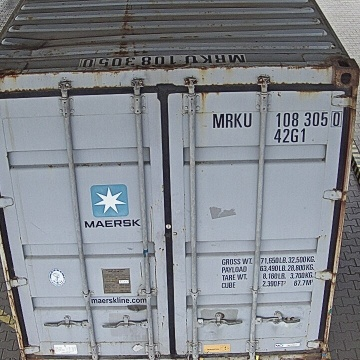serial_id: (213, 111, 341, 127)
